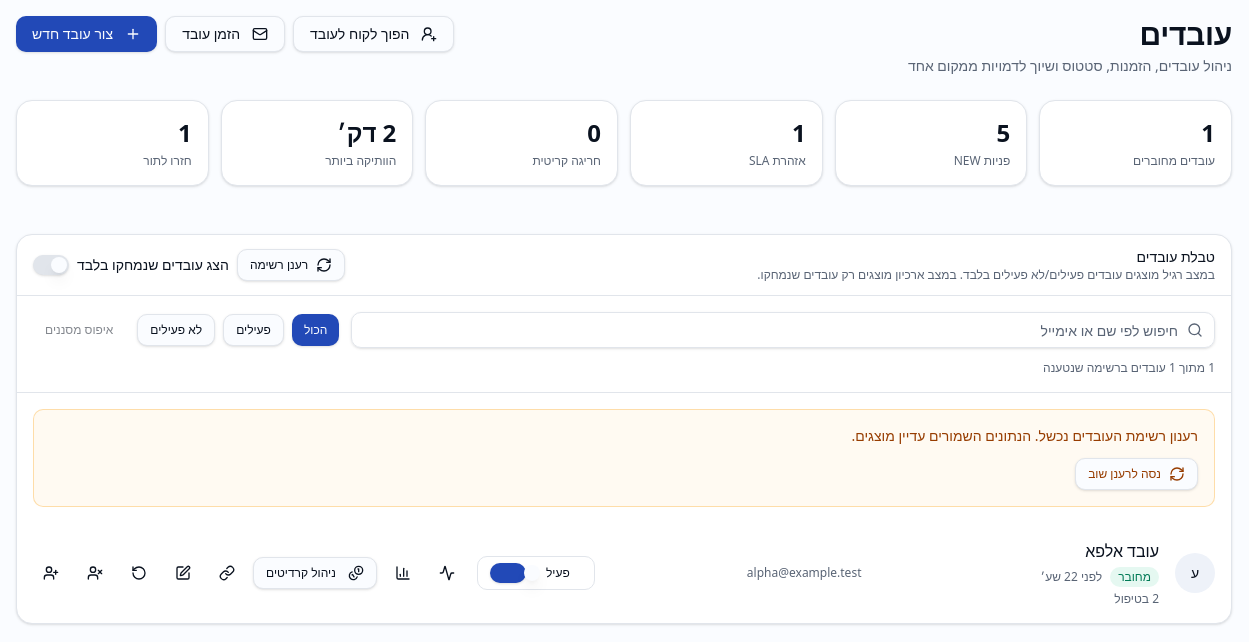
Test: admin operator workspace › keeps cached operators visible across a failed refetch and clears the warning after recovery
The image size is (1249, 642).
expect the text "עובד אלפא" is shown: met, box [1085,540,1159,562]
Click the button "נסה לרענן שוב". click: (1137, 474)
box: [1075,458,1198,490]
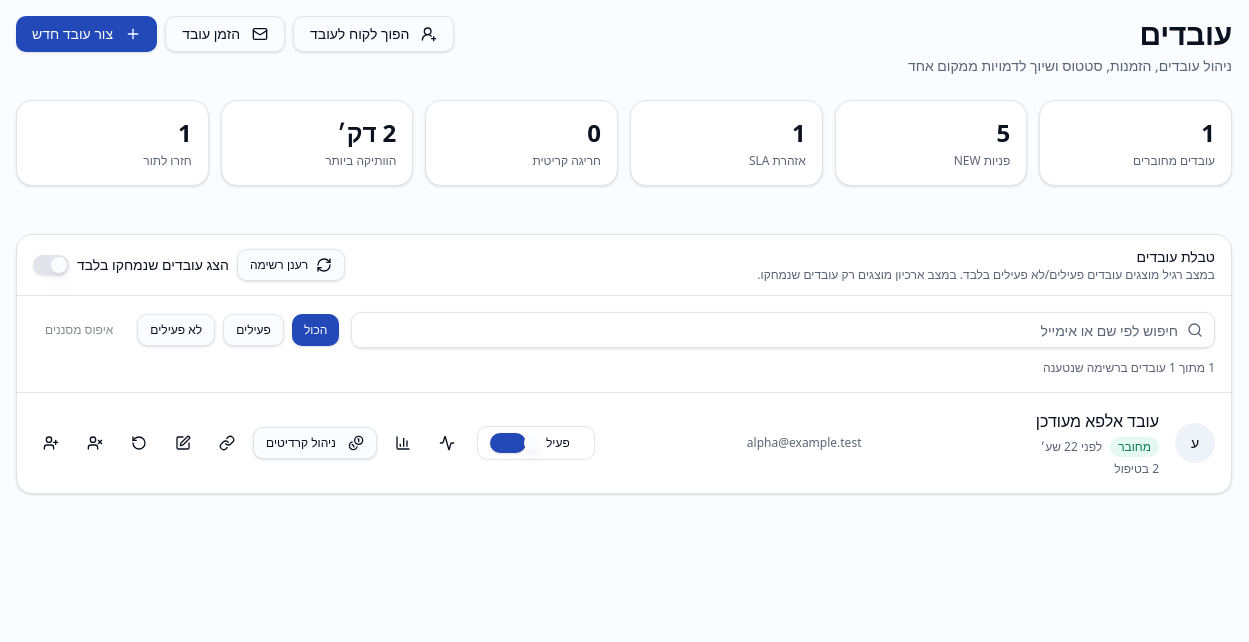
expect the text "עובד אלפא מעודכן" is shown: met, box [1036,410,1159,432]
